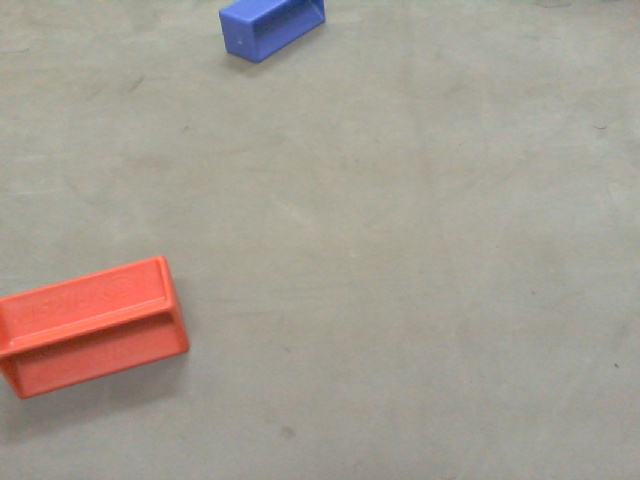BlueSample: (218, 1, 326, 64)
RedSample: (1, 243, 192, 405)
